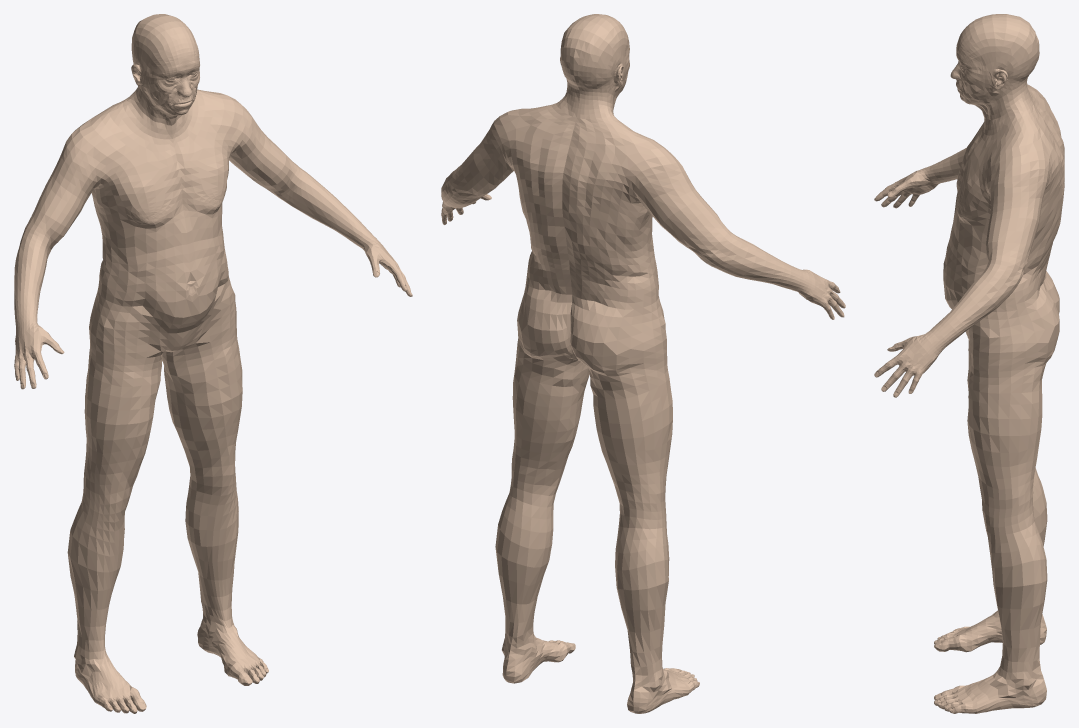
File: male-elder-max-strong.glb
The picture shows the model from 3 angles, left to right: view 1: azimuth 30°, elevation 25°; view 2: azimuth 150°, elevation 25°; view 3: azimuth 270°, elevation 25°; orthographic projection.
Visible parts, largest first — view 1: world; view 2: world; view 3: world.
Boxes of the visible parts, <box> form: world: <box>14,14,412,713</box>; world: <box>441,14,845,713</box>; world: <box>874,14,1064,713</box>.
Size of the model in its own units: 1.23 by 1.98 by 0.5189.
